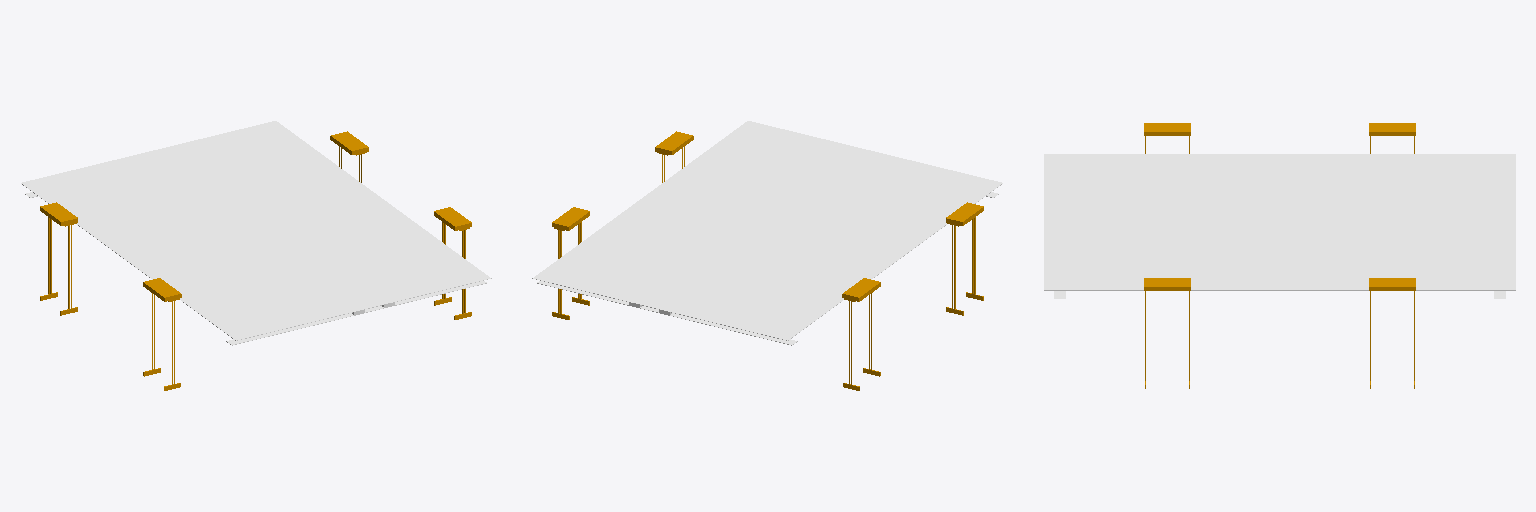
robot.urdf — worktable.urdf:
<?xml version="0.0" ?>
<robot name="worktable.urdf">
  <link name="baseLink">
    <contact>
      <lateral_friction value="1.0"/>
    </contact>
    <inertial>
      <origin rpy="0 0 0" xyz="0 0 0"/>
       <mass value="0"/>
       <inertia ixx="1" ixy="1" ixz="1" iyy="1" iyz="1" izz="1"/>
    </inertial>
    <visual>
      <origin rpy="0 0 0" xyz="0 0 0.6"/>
      <geometry>
				<mesh filename="models/meshes/worktable/table.obj" scale="1.5 1 0.05"/>
      </geometry>
       <material name="white">
        <color rgba="1 1 1 1"/>
      </material>
    </visual>
    <collision>
      <origin rpy="0 0 0" xyz="0 0 0.3"/>
      <geometry>
	 	<mesh filename="models/meshes/worktable/table.obj" scale="1.5 0.5 0.6"/>
      </geometry>
    </collision>
	<visual>
      <origin rpy="0 0 0" xyz="-0.65 -0.4 0.29"/>
      <geometry>
	    <mesh filename="models/meshes/worktable/table.obj" scale="0.1 0.1 0.58"/>
      </geometry>
	  <material name="framemat0"/>	 
    </visual>
    <visual>
      <origin rpy="0 0 0" xyz="-0.65 0.4 0.29"/>
      <geometry>
        <mesh filename="models/meshes/worktable/table.obj" scale="0.1 0.1 0.58"/>
      </geometry>
	  <material name="framemat0"/>
	  </visual>
    <visual>
      <origin rpy="0 0 0" xyz="0.65 -0.4 0.29"/>
      <geometry>
        <mesh filename="models/meshes/worktable/table.obj" scale="0.1 0.1 0.58"/>
      </geometry>
	  <material name="framemat0"/>
	  </visual>
    <visual>
      <origin rpy="0 0 0" xyz="0.65 0.4 0.29"/>
      <geometry>
        <mesh filename="models/meshes/worktable/table.obj" scale="0.1 0.1 0.58"/>
      </geometry>
    </visual>
  </link>
</robot>

--- Facts derived from the render (not from the file) ---
The picture shows the robot from 3 angles, left to right: view 1: azimuth 30°, elevation 25°; view 2: azimuth 150°, elevation 25°; view 3: azimuth 270°, elevation 25°; orthographic projection.
Robot: worktable.urdf — 1 links, 0 joints (none); root link baseLink; default pose: every joint at zero.
Links seen in each view (by area): view 1: baseLink; view 2: baseLink; view 3: baseLink.
Link boxes in pixels (left/top/right/bottom): baseLink: left=21, top=121, right=491, bottom=390; baseLink: left=532, top=121, right=1002, bottom=390; baseLink: left=1044, top=123, right=1515, bottom=388.
Size in the robot's own frame: 1.38 by 1.67 by 0.4014 metres.
Meshes: 1 distinct files referenced, 5 mesh visuals loaded (1 OBJ).